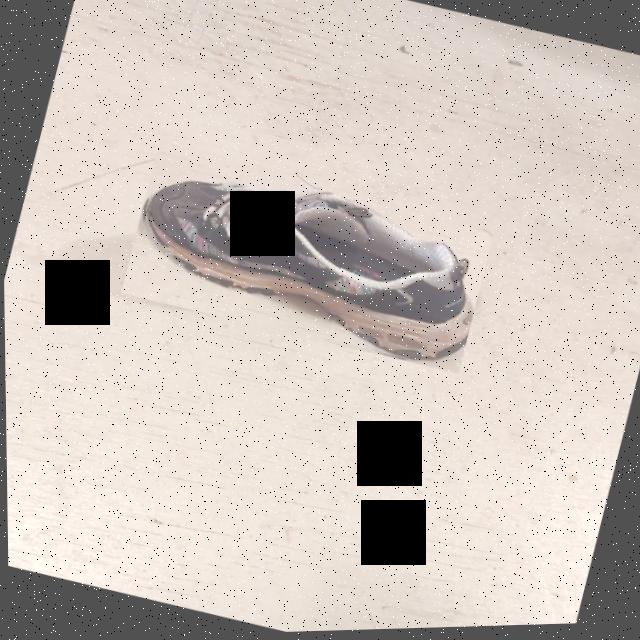shoe: (118, 145, 495, 384)
